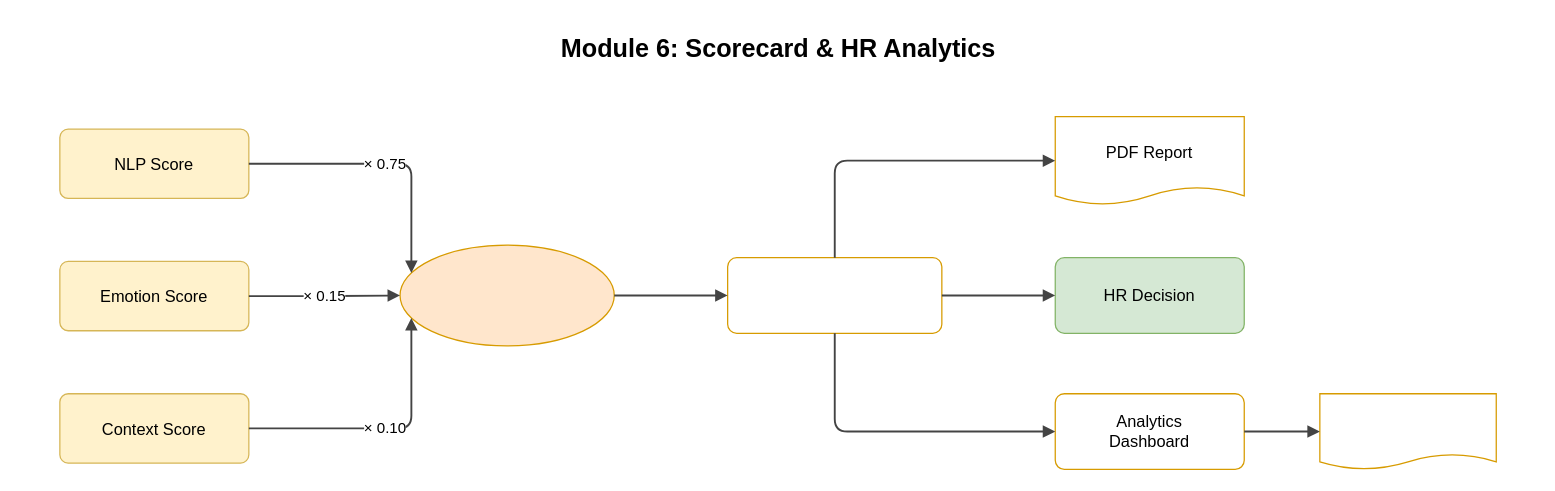
Image size: 1555x491. Some labels were removed from this diagram. The centre of each missing label's shape, as x and y in pixels:
CSV Export: (x=1407, y=430)
Final Score (0 - 100): (x=506, y=295)
Scorecard: (x=834, y=294)
